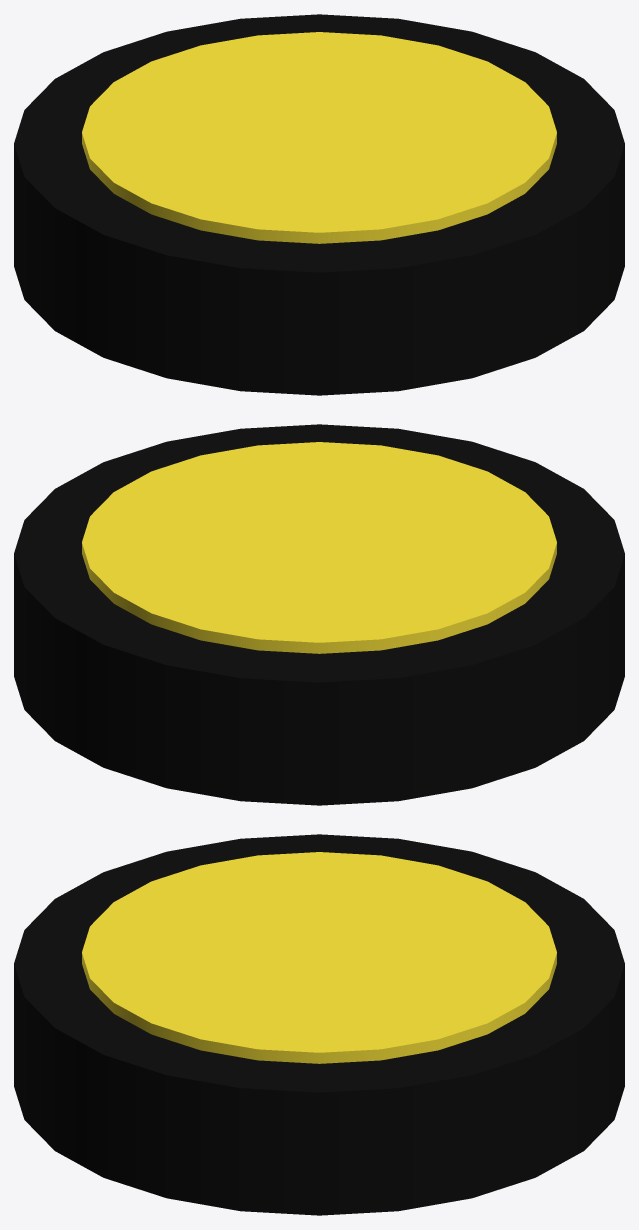
The model's file is LlantaAtras.obj.
3 views of the same model, one above another, from view 1: azimuth 30°, elevation 25°; view 2: azimuth 150°, elevation 25°; view 3: azimuth 270°, elevation 25° (orthographic).
Visible parts, largest first — view 1: LlantaAtras; view 2: LlantaAtras; view 3: LlantaAtras.
Part boxes in pixels (x1,y1,x2,y2): LlantaAtras: (14, 14, 624, 395); LlantaAtras: (14, 424, 624, 805); LlantaAtras: (14, 834, 624, 1215).
Size of the model in its own units: 0.9 by 0.218 by 0.9.
